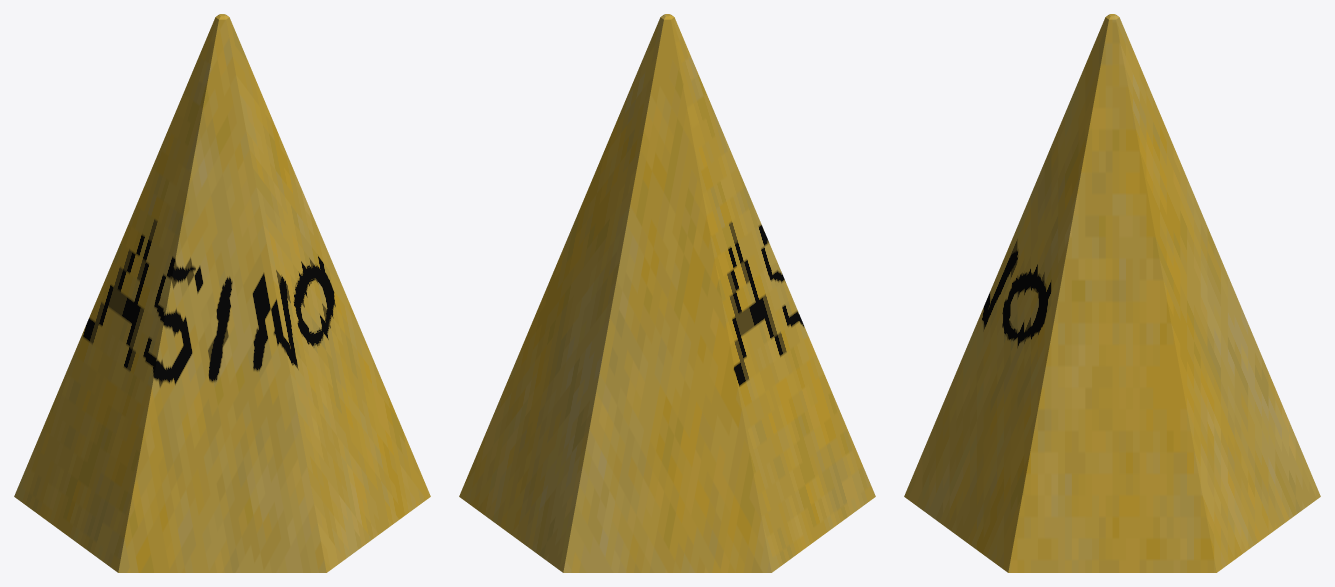
The model's file is Asino_Cappello.fbx.
3 views of the same model, side by side, from view 1: azimuth 30°, elevation 25°; view 2: azimuth 150°, elevation 25°; view 3: azimuth 270°, elevation 25° (orthographic).
Visible parts, largest first — view 1: Cone.001; view 2: Cone.001; view 3: Cone.001.
Part boxes in pixels (x1,y1,x2,y2): Cone.001: (14,14,430,572); Cone.001: (459,14,875,572); Cone.001: (904,14,1320,572).
Bounding box in the file's own units: 0.2369 × 0.3486 × 0.2735.
Materials: 1 (1 with a texture image).
